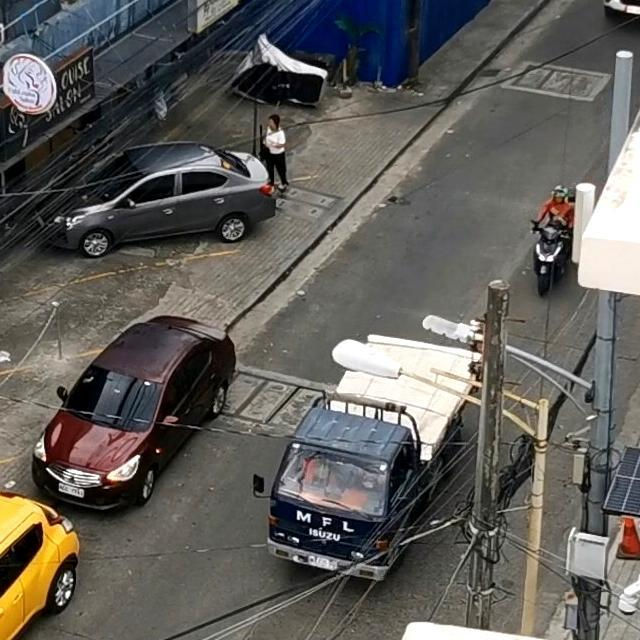Motorcycle: (508, 163, 588, 293)
